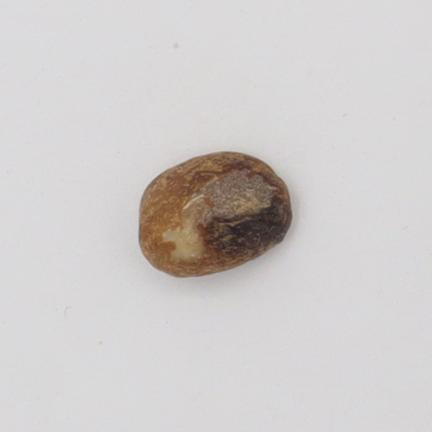partial-black: (139, 152, 292, 276)
